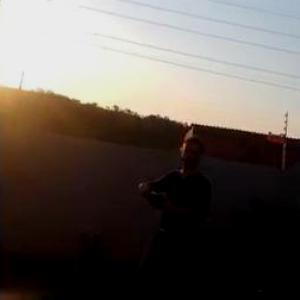follow: (128, 127, 216, 299)
